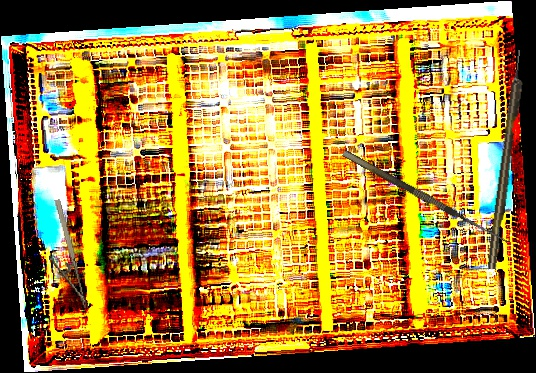Hook Surgical: (342, 140, 515, 248), (485, 49, 528, 270)
Needle Holder: (36, 198, 89, 314)
